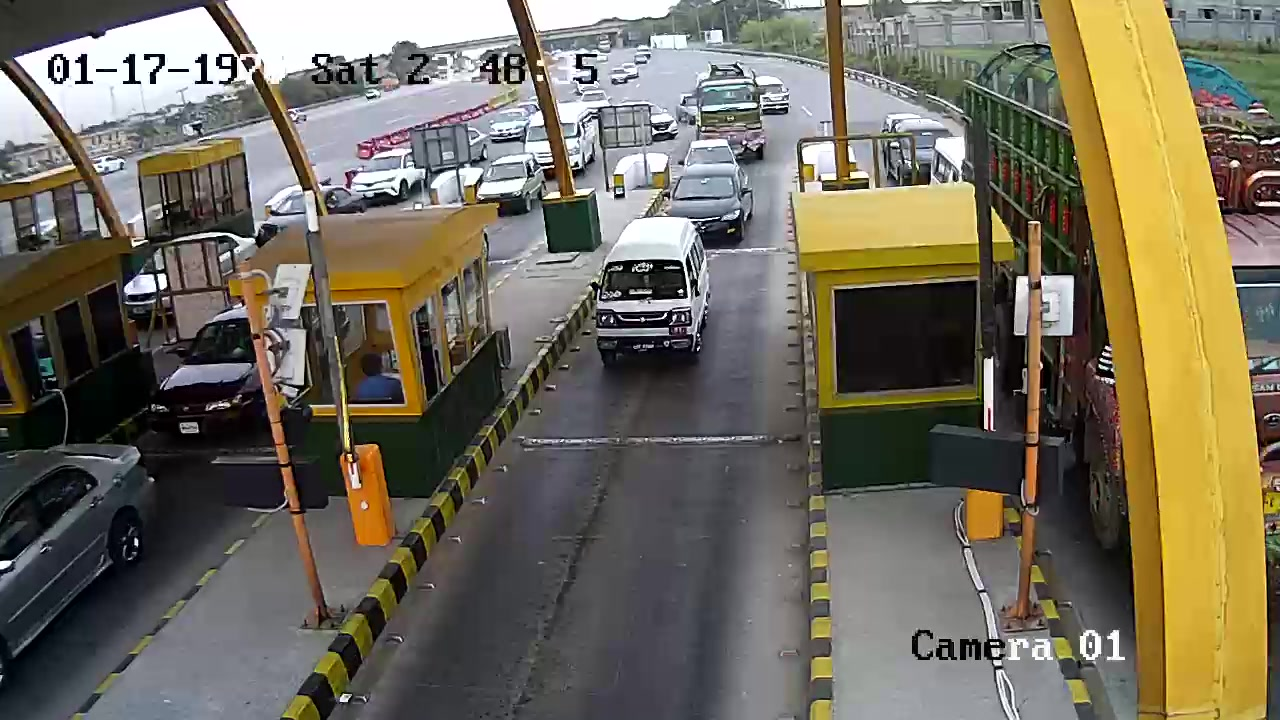F1: (596, 212, 716, 373)
